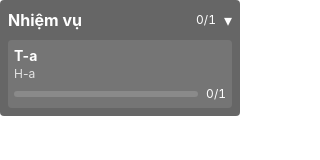
Test case: collapses and expands
The image size is (320, 160).
Click the button "Nhiệm vụ 0/1 ▾".
click(120, 20)  # box 8,8 -> 232,32
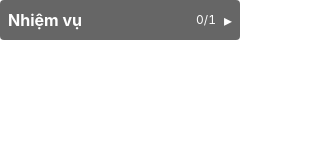
Check: the list item with test id "quest-a" is gone
Click the button "Nhiệm vụ 0/1 ▸".
click(120, 20)  # box 8,8 -> 232,32
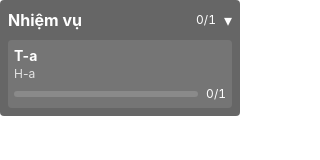
Check: the list item with test id "quest-a" is shown, box 8,40 -> 232,108
